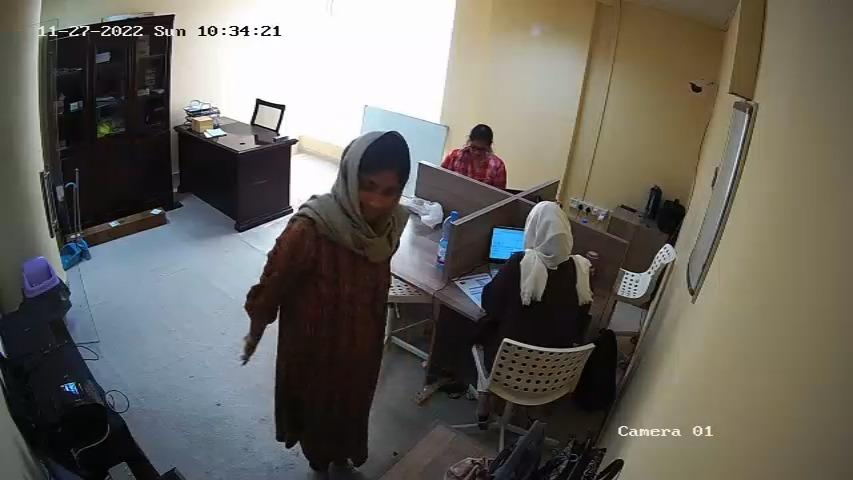no_apron: (293, 226, 378, 415)
